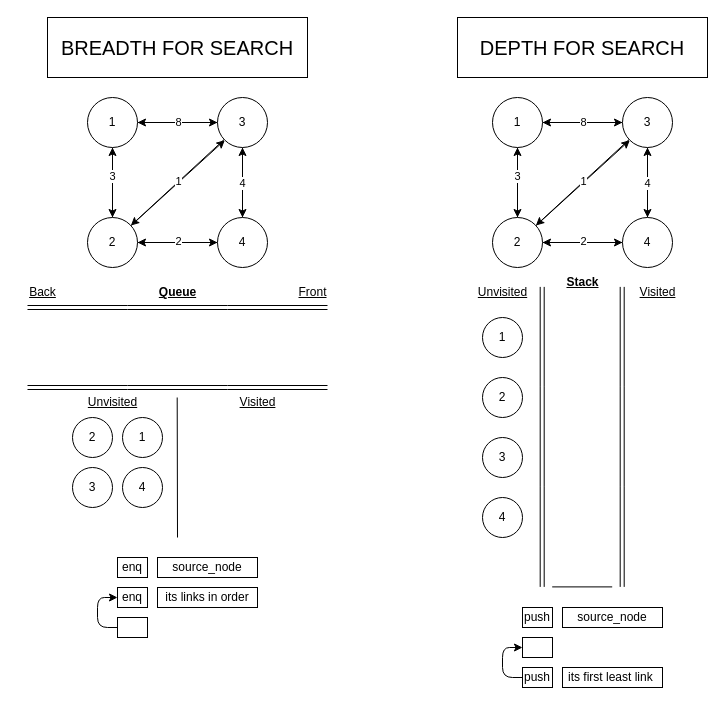
Image size: 725x705. Some labels were removed from this diagram. Here are the shapes that lost their labels. From the top down, the centre of each, then its label:
At point (132, 627): "deq".
At point (537, 647): "pop".
